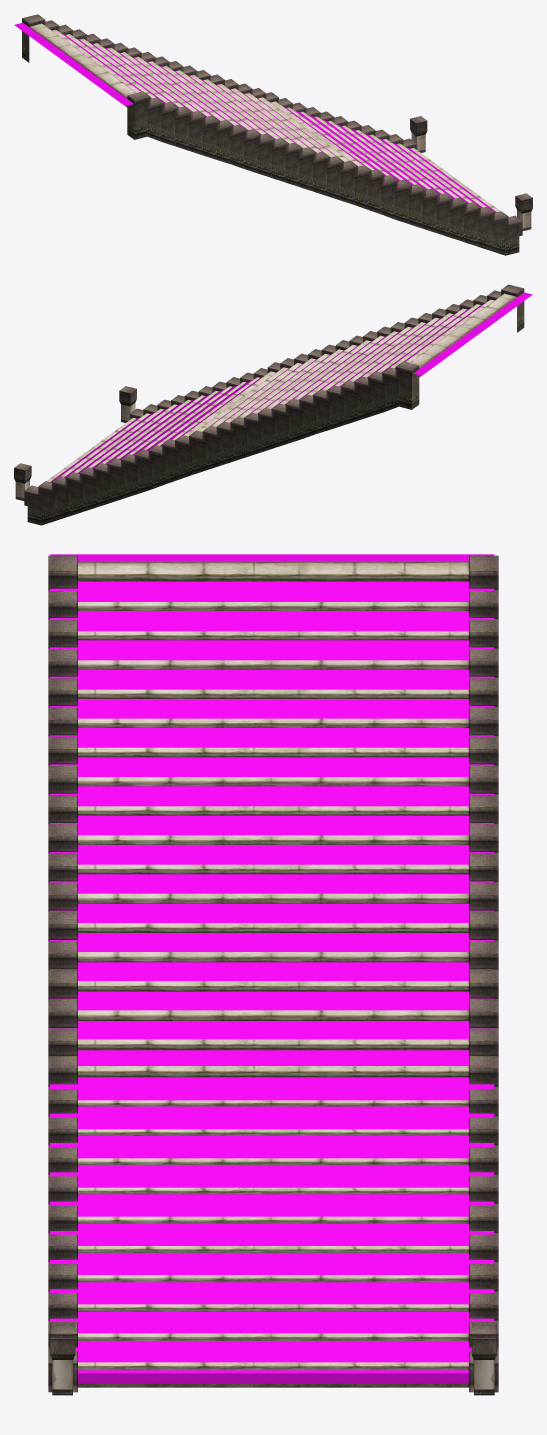
Rendered from a_SWEcstair01.glb.
3 renders of one model, top to bottom at view 1: azimuth 30°, elevation 25°; view 2: azimuth 150°, elevation 25°; view 3: azimuth 270°, elevation 25°, orthographic. The views are drawn at different scales.
Visible parts, largest first — view 1: a_SWEcstair01; view 2: a_SWEcstair01; view 3: a_SWEcstair01.
Part boxes in pixels (bbox=[...]): a_SWEcstair01: bbox=[14, 14, 532, 255]; a_SWEcstair01: bbox=[14, 284, 532, 525]; a_SWEcstair01: bbox=[48, 554, 498, 1395].
Size of the model in its own units: 9.59 by 5.52 by 4.59.
Materials: 2 (2 with a texture image).
